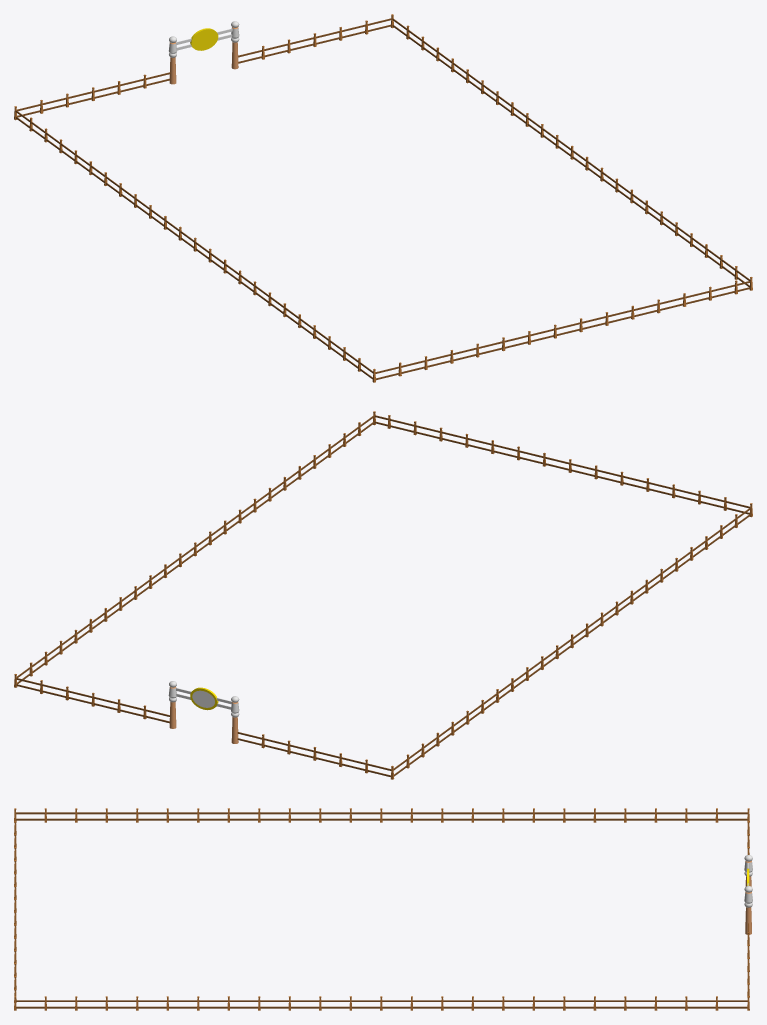
The model's file is fence_zoo.fbx.
3 renders of one model, top to bottom at view 1: azimuth 30°, elevation 25°; view 2: azimuth 150°, elevation 25°; view 3: azimuth 270°, elevation 25°, orthographic. The views are drawn at different scales.
Parts seen in each view (by area): view 1: Cube.014; view 2: Cube.014; view 3: Cube.014, Cylinder.038.
Part boxes in pixels (<box>): Cube.014: <box>14,14,752,382</box>; Cube.014: <box>14,411,752,779</box>; Cube.014: <box>14,808,749,1010</box>; Cylinder.038: <box>744,861,752,934</box>.
Bounding box in the file's own units: 11467 × 1342 × 18946.
